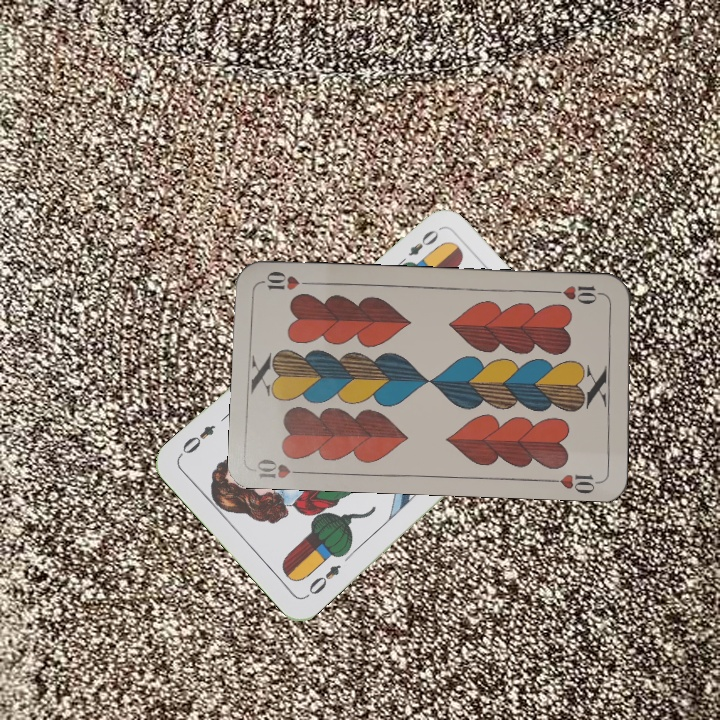EO: (393, 225, 442, 270), (302, 560, 344, 601)
H10: (253, 454, 311, 481), (549, 282, 608, 307)
